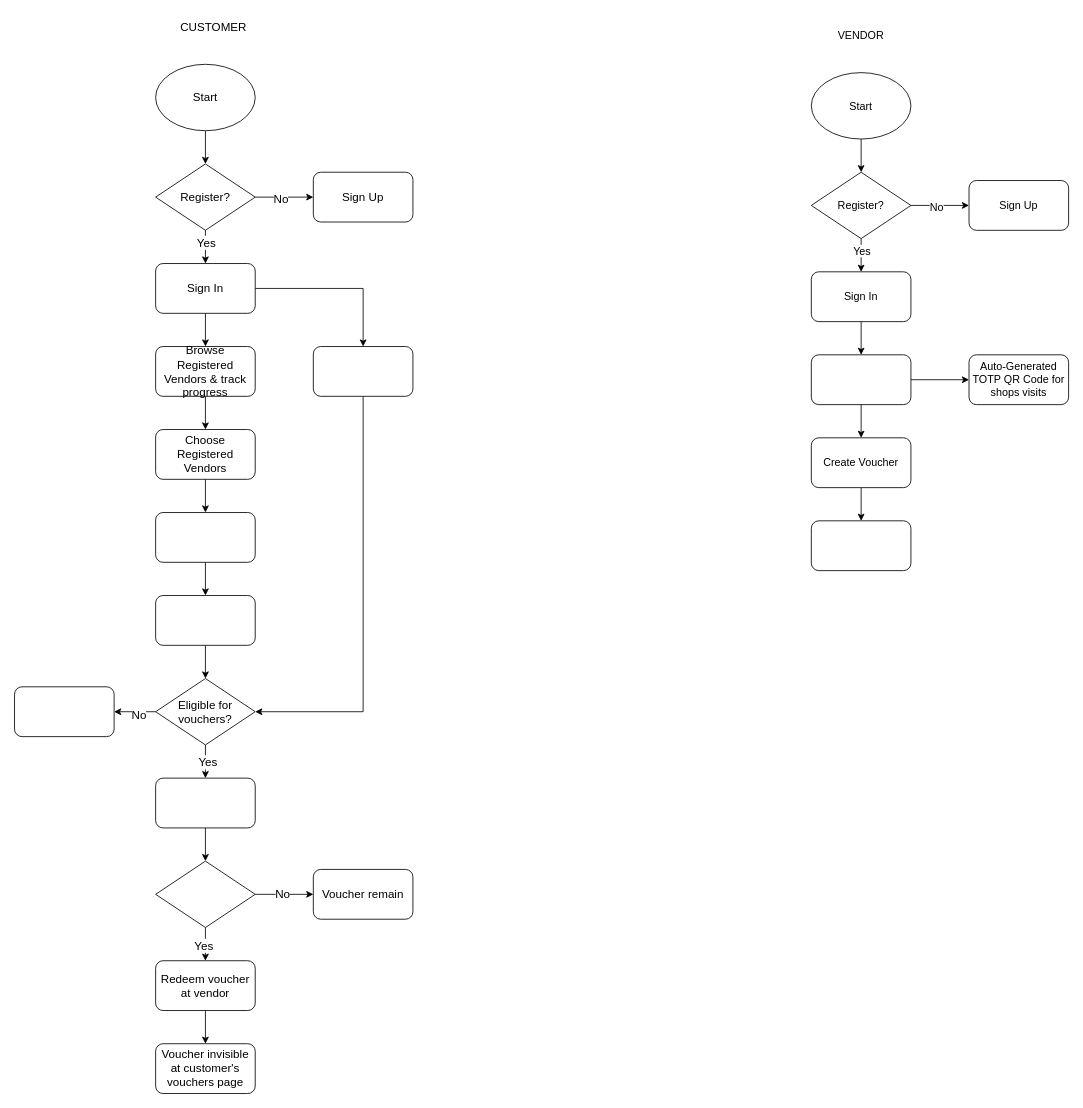
Some shapes in this 1083 by 1108 pixel diagram are drawn without their labels. The shapes that lost their labels are listed below. From the top down, each one's box as (x1, y1, x2, y2) in pixels, then its label:
(312, 346, 413, 396): Play the daily challenges
(810, 354, 911, 405): View shop visits statistics, how many vouchers customers redeemed daily
(155, 512, 255, 562): Scan the TOTP QR code
(810, 520, 911, 571): Auto-Generated TOTP QR Code for customer to redeem the voucher
(155, 595, 255, 645): Get 10 points for visiting shop
(14, 686, 114, 737): Collect more points
(155, 777, 255, 828): Vouchers that customer is eligible appear
(155, 860, 255, 928): Use voucher?
